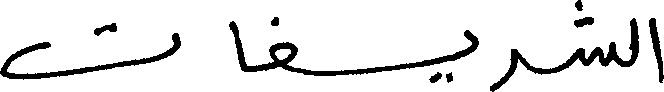X: (0, 18, 178, 84), (578, 0, 613, 71), (270, 12, 297, 77), (492, 44, 516, 91), (649, 13, 663, 87), (230, 16, 245, 76), (464, 25, 477, 61), (629, 13, 637, 71)
